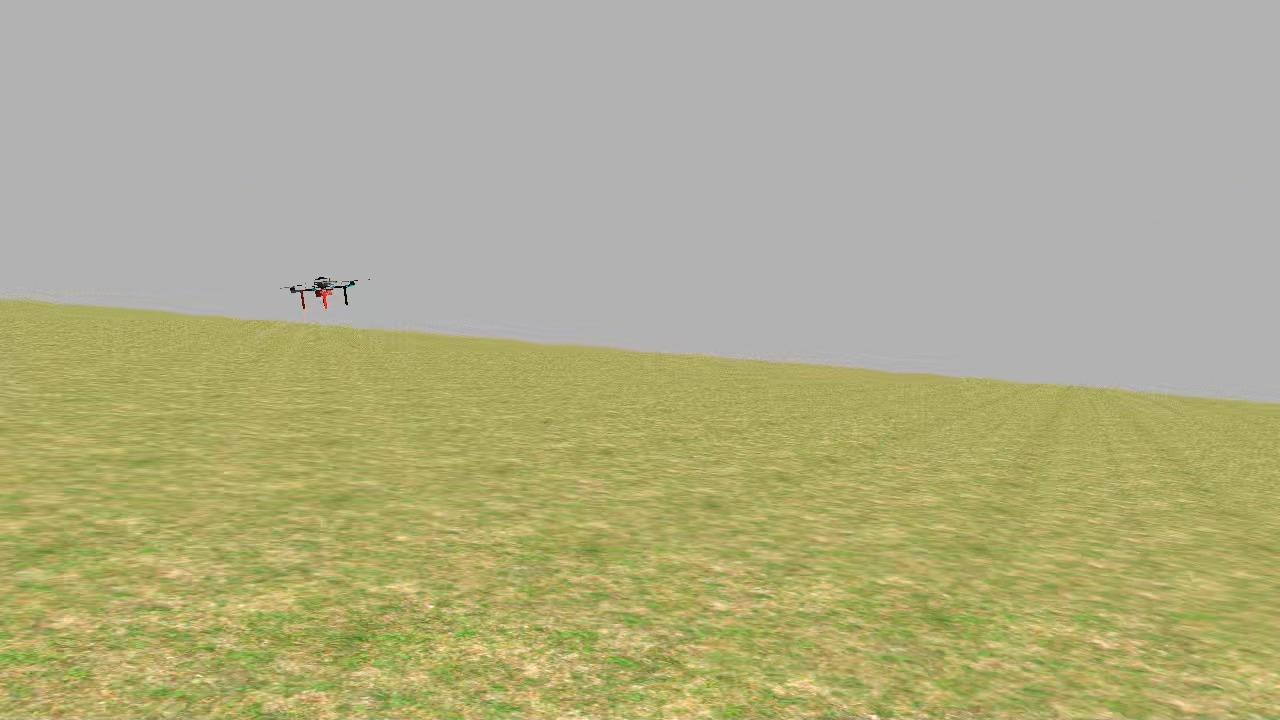UAV: (284, 272, 368, 324)
